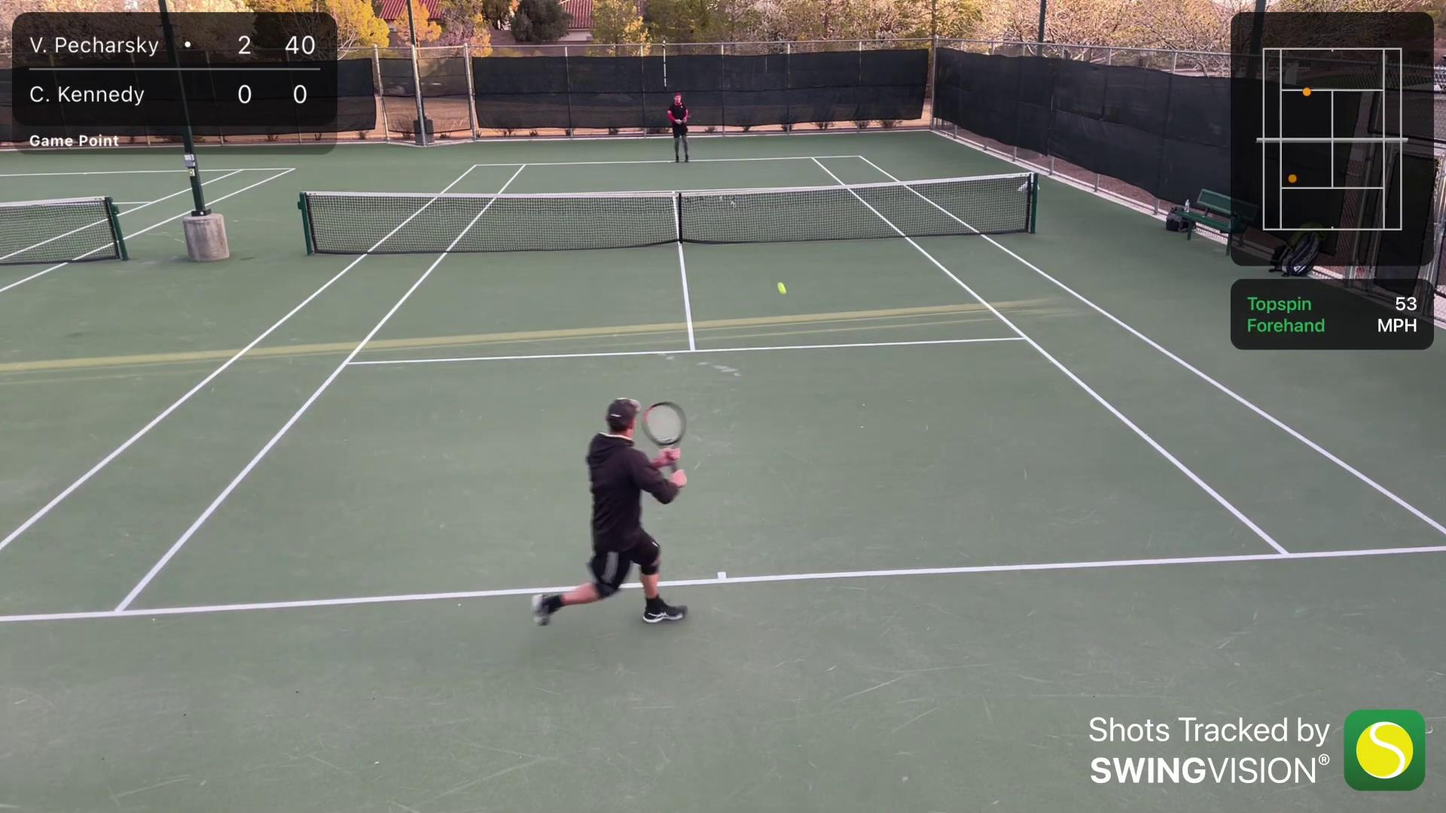ball: (775, 279, 788, 295)
